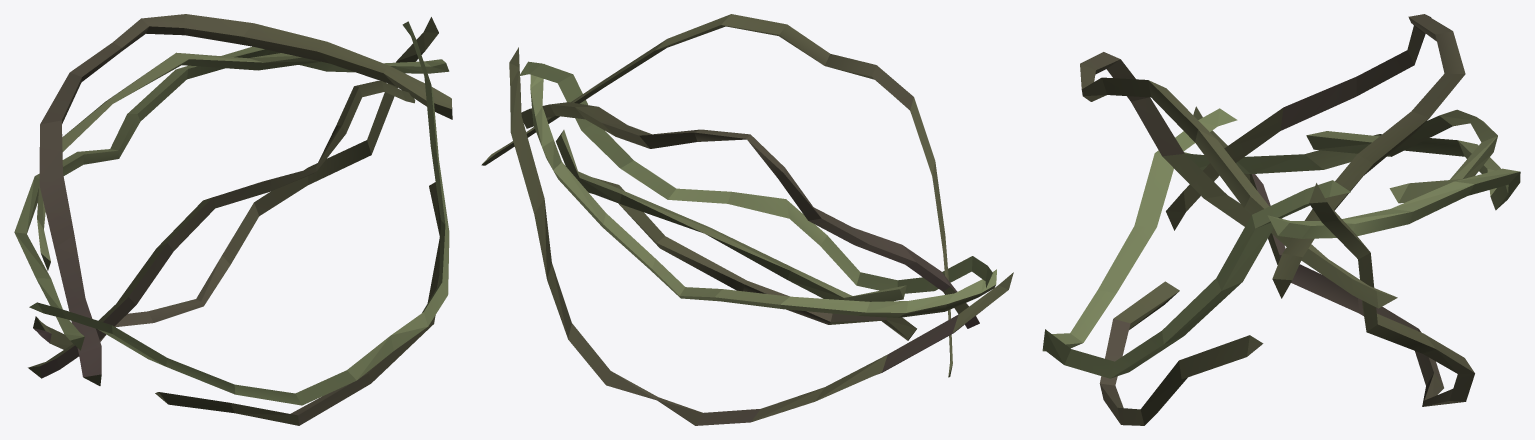
The model's file is Desert_Plant_10_Small_0_1.fbx.
3 renders of one model, left to right at view 1: azimuth 30°, elevation 25°; view 2: azimuth 150°, elevation 25°; view 3: azimuth 270°, elevation 25°, orthographic. The views are drawn at different scales.
Visible parts, largest first — view 1: Desert_plant_017.001; view 2: Desert_plant_017.001; view 3: Desert_plant_017.001.
Part boxes in pixels (box(x1,y1,x2,y2)): Desert_plant_017.001: box(14, 14, 452, 425); Desert_plant_017.001: box(481, 14, 1013, 425); Desert_plant_017.001: box(1042, 14, 1520, 425).
Size of the model in its own units: 312 by 200 by 237.
